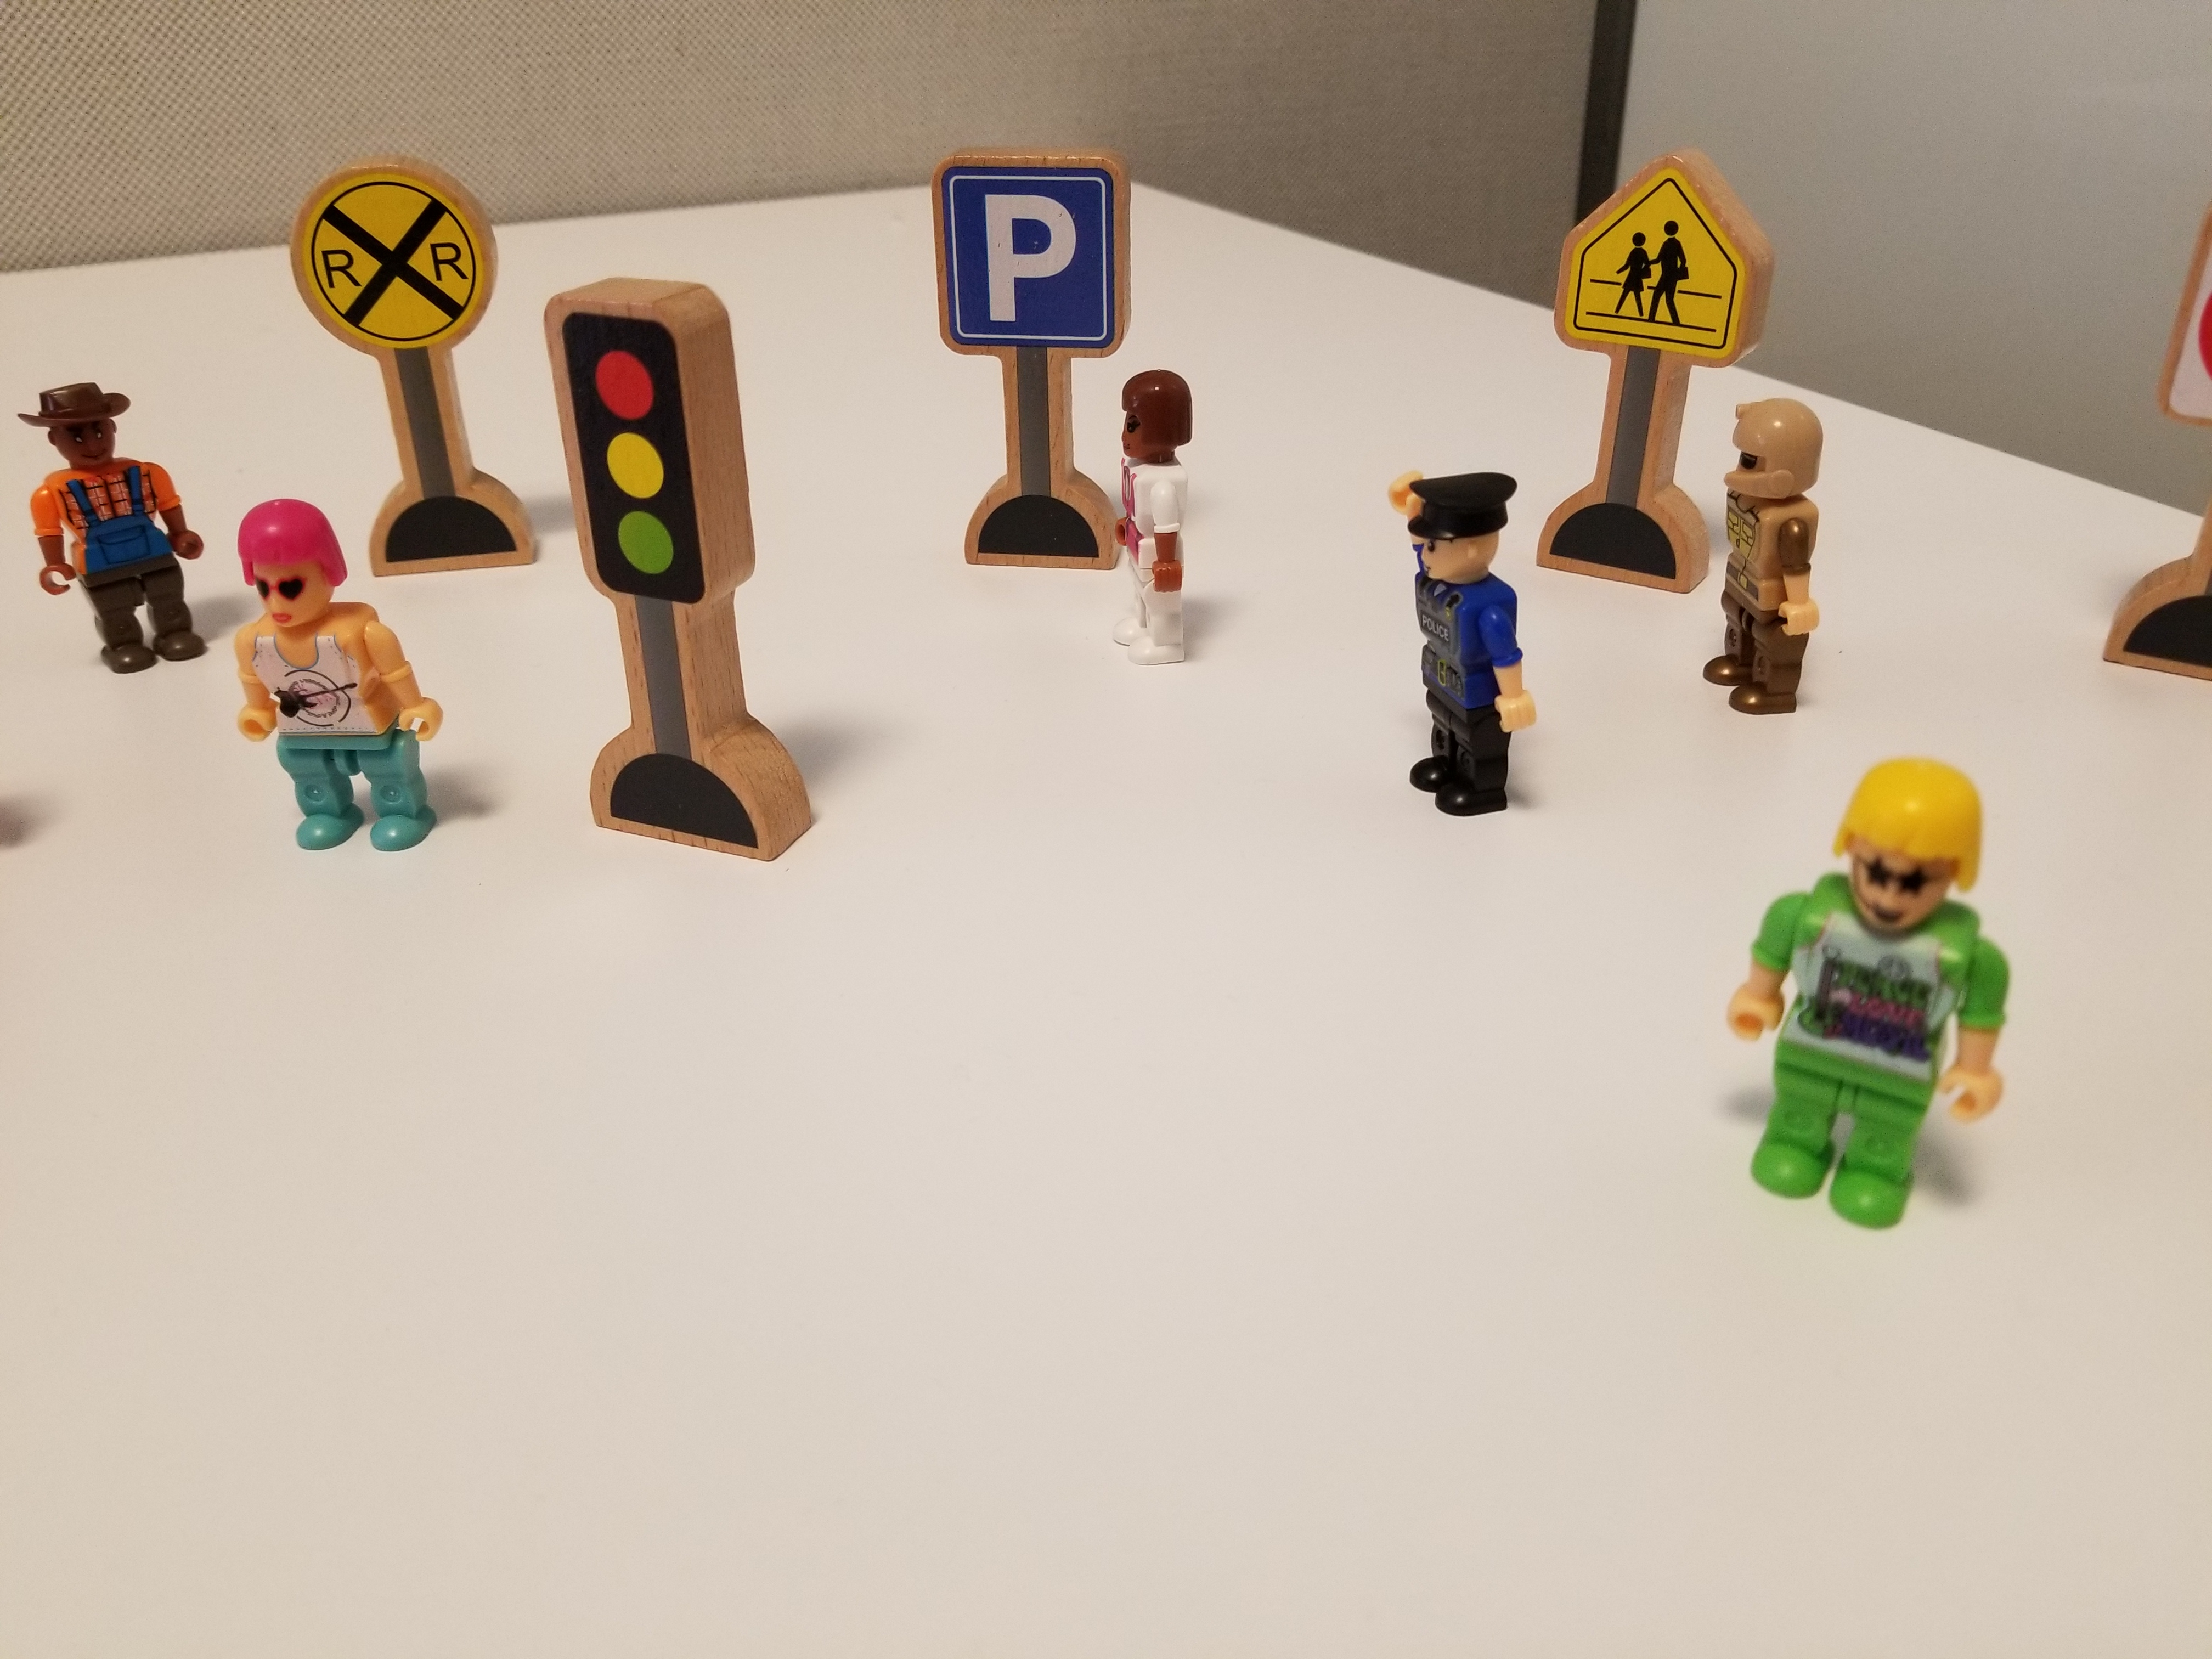Parking: (914, 124, 1127, 580)
Pedestrian crossing: (1546, 137, 1772, 365)
Railroad Crossing: (264, 157, 543, 466)
Traffic Light: (528, 275, 813, 846)
person: (1730, 736, 2020, 1280), (216, 501, 442, 859), (1359, 440, 1546, 831), (3, 363, 216, 681), (1697, 379, 1844, 743), (1107, 363, 1208, 684)
